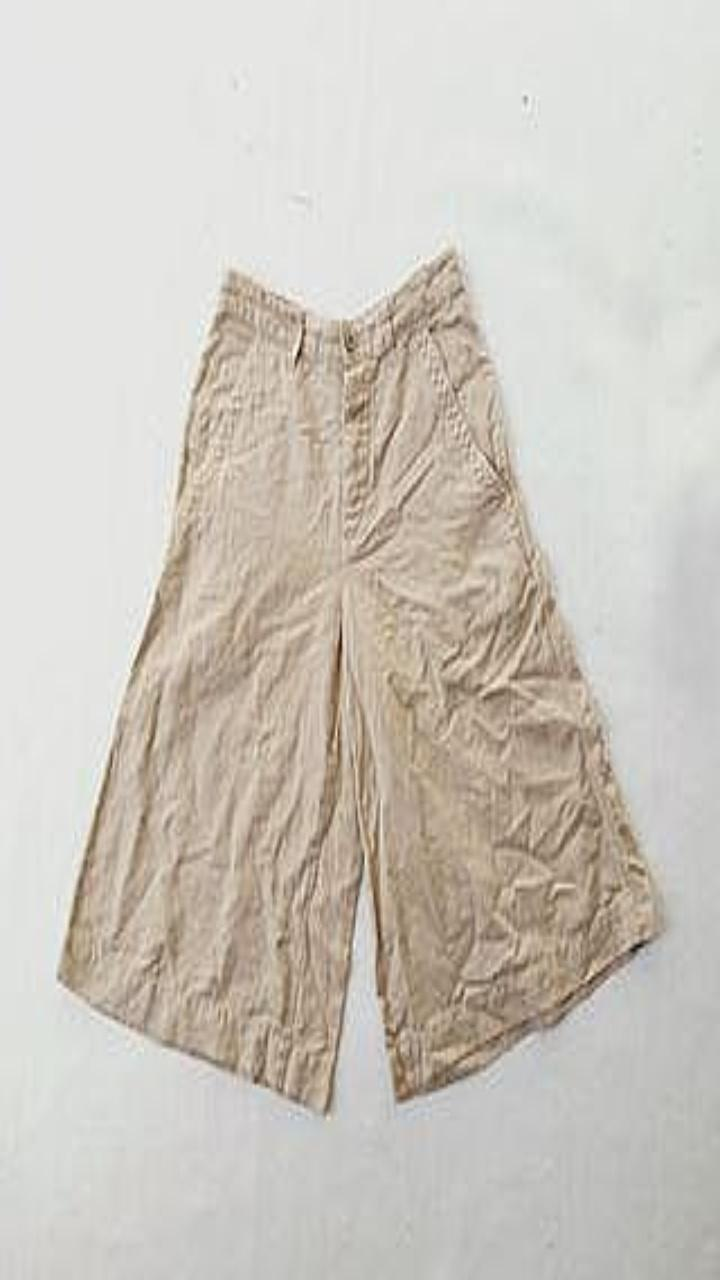Shorts: (57, 248, 663, 1111)
